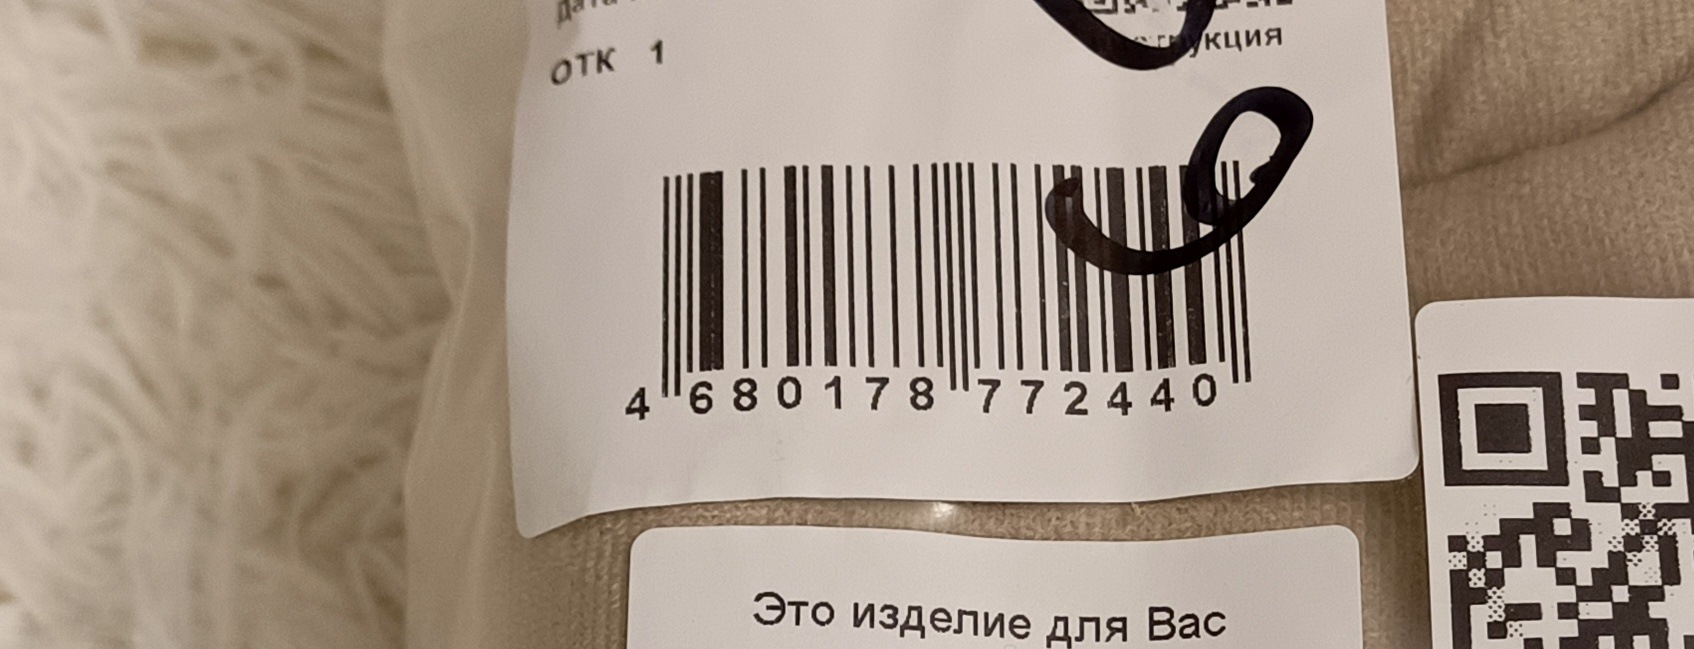1d: (650, 149, 1259, 374)
